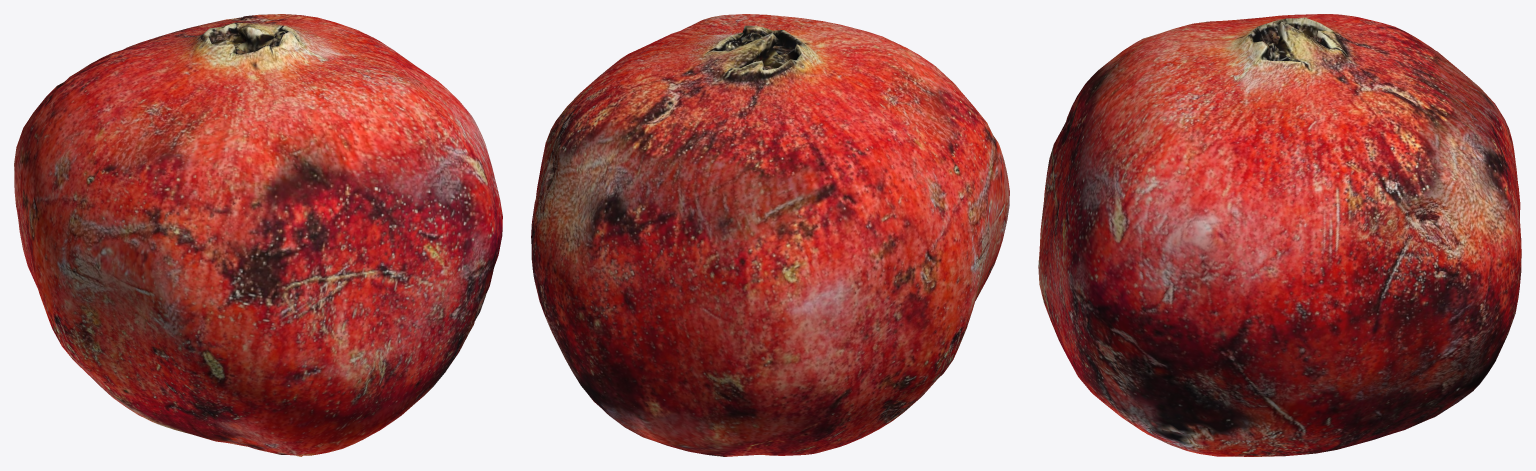
Rendered from nar.glb.
3 views of the same model, side by side, from view 1: azimuth 30°, elevation 25°; view 2: azimuth 150°, elevation 25°; view 3: azimuth 270°, elevation 25° (orthographic). The views are drawn at different scales.
Parts seen in each view (by area): view 1: Pomegranate; view 2: Pomegranate; view 3: Pomegranate.
Part boxes in pixels (x1,y1,x2,y2): Pomegranate: [14, 14, 502, 456]; Pomegranate: [531, 14, 1009, 456]; Pomegranate: [1038, 14, 1521, 456].
Bounding box in the file's own units: 1500 × 1423 × 1512.
1 material, 1 textured.
